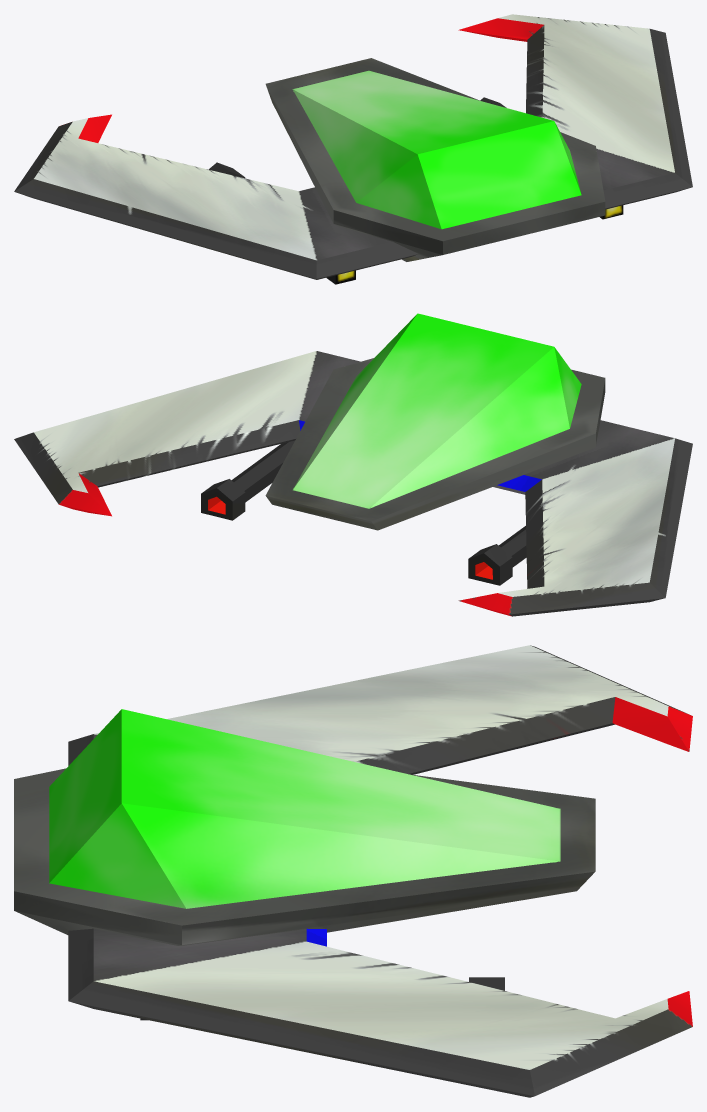
File: ship8.fbx
The picture shows the model from 3 angles, top to bottom: view 1: azimuth 30°, elevation 25°; view 2: azimuth 150°, elevation 25°; view 3: azimuth 270°, elevation 25°; orthographic projection. The views are drawn at different scales.
Visible parts, largest first — view 1: ship.001; view 2: ship.001; view 3: ship.001.
Part boxes in pixels (left/top/right/bottom): ship.001: left=14, top=14, right=692, bottom=284; ship.001: left=14, top=313, right=692, bottom=616; ship.001: left=14, top=645, right=692, bottom=1097.
Bounding box in the file's own units: 102 × 17.97 × 65.09.
